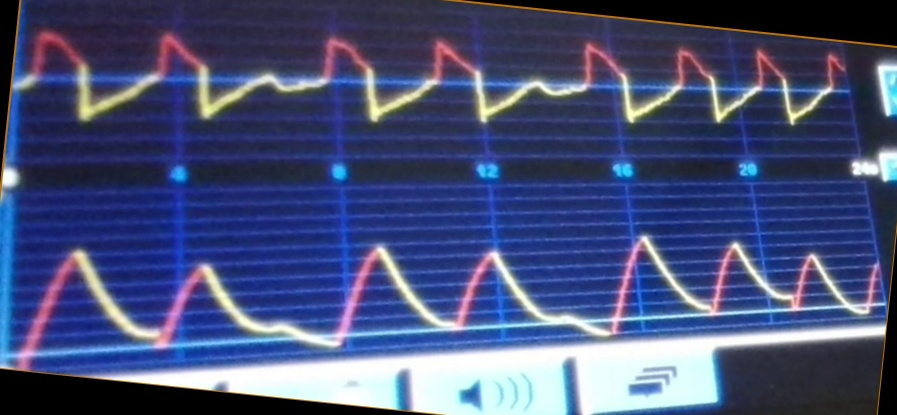Ineffective_effort Flow: (23, 27, 845, 131)
Ineffective_effort Volume: (18, 231, 879, 351)
